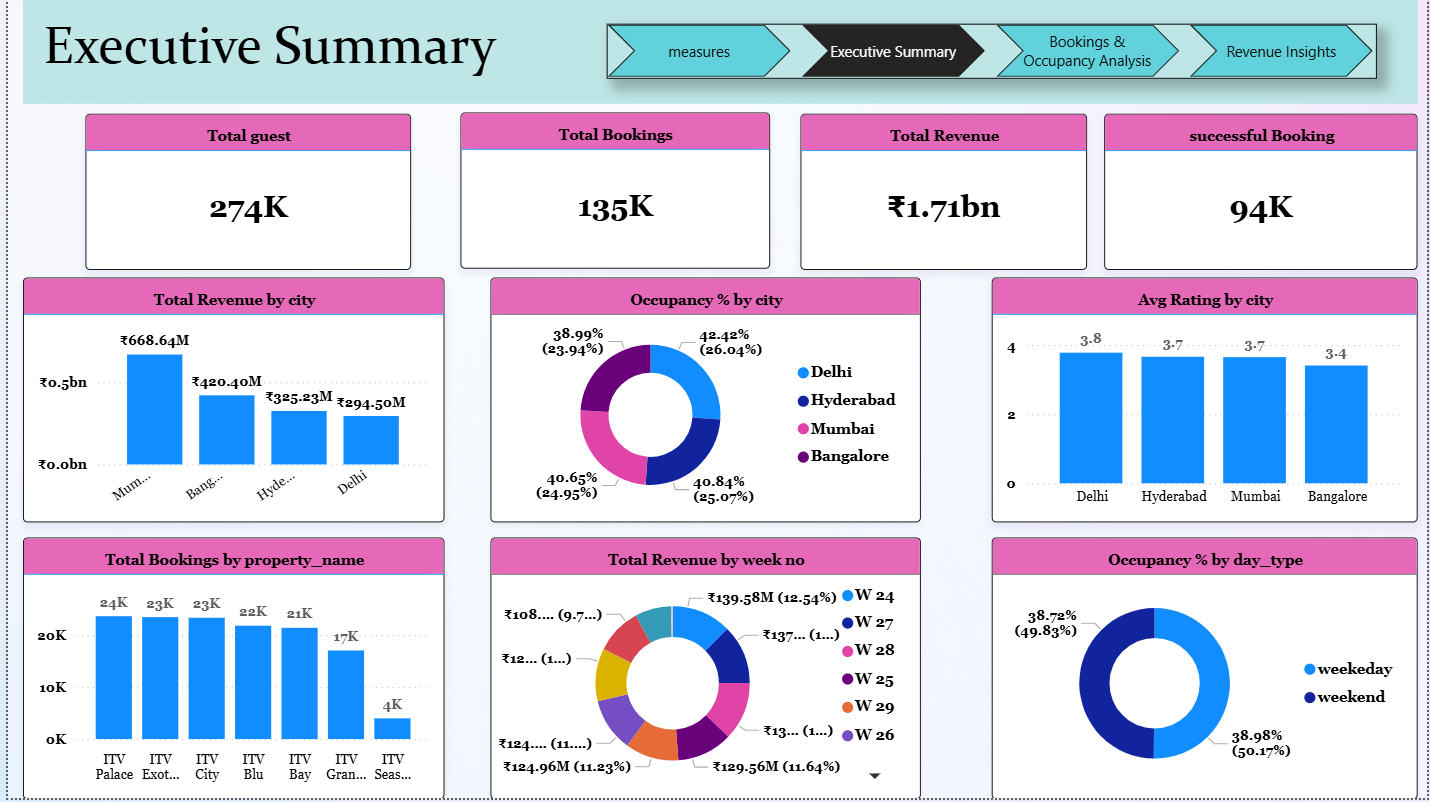

The dashboard page shown, as its layout file describes it:
{"tool":"powerbi","page":{"name":"Executive Summary","canvas":[1280,720],"ordinal":1},"visuals":[{"type":"columnChart","fields":{"Category":["dim_hotels.city"],"Y":["measures (2).Total Revenue"]},"box":[13.9,249.7,380.2,220.5],"z":0},{"type":"columnChart","fields":{"Category":["dim_hotels.property_name"],"Y":["measures (2).Total Bookings"]},"box":[13.9,484.2,380.2,235.8],"z":1000},{"type":"donutChart","fields":{"Category":["dim_date.day_type"],"Y":["measures (2).Occupancy %"]},"box":[887.2,484.2,384,235.8],"z":2000},{"type":"donutChart","fields":{"Y":["measures (2).Occupancy %"],"Category":["dim_hotels.city"]},"box":[434.7,249.7,387.8,220.5],"z":3000},{"type":"donutChart","fields":{"Category":["dim_date.week no"],"Y":["measures (2).Total Revenue"]},"box":[434.7,484.2,387.8,235.8],"z":4000},{"type":"textbox","box":[13.9,0,1257.3,93.8],"z":5000},{"type":"card","title":"Total Revenue","fields":{"Values":["measures (2).Total Revenue"]},"box":[714.9,102.7,258.6,140.7],"z":6000},{"type":"card","title":"Total guest","fields":{"Values":["measures (2).Total Guests"]},"box":[69.7,102.7,293.5,140.6],"z":7000},{"type":"card","title":"Total Bookings","fields":{"Values":["measures (2).Total Bookings"]},"box":[408.1,101.4,278.8,140.7],"z":8000},{"type":"columnChart","fields":{"Y":["measures (2).Avg Rating"],"Category":["dim_hotels.city"]},"box":[887.2,249.7,384,220.5],"z":9000},{"type":"pageNavigator","box":[539.9,21.5,694.6,49.4],"z":10000},{"type":"card","title":"successful Booking","fields":{"Values":["measures (2).DURN"]},"box":[988.6,102.7,282.6,140.7],"z":11000}]}

Visuals, with their boxes in screenshot pixels (x1, y1, x2, y2), scaled from the page's 1280x720 canvas onto the 1430x802 screenshot:
columnChart - dim_hotels.city x measures (2).Total Revenue: 16,278,440,524
columnChart - dim_hotels.property_name x measures (2).Total Bookings: 16,539,440,801
donutChart - dim_date.day_type x measures (2).Occupancy %: 991,539,1420,801
donutChart - measures (2).Occupancy % x dim_hotels.city: 486,278,919,524
donutChart - dim_date.week no x measures (2).Total Revenue: 486,539,919,801
textbox: 16,0,1420,104
"Total Revenue" card: 799,114,1088,271
"Total guest" card: 78,114,406,271
"Total Bookings" card: 456,113,767,270
columnChart - measures (2).Avg Rating x dim_hotels.city: 991,278,1420,524
pageNavigator: 603,24,1379,79
"successful Booking" card: 1104,114,1420,271
